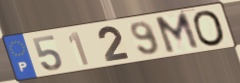1: (67, 30, 91, 66)
2: (97, 25, 132, 64)
5: (31, 33, 64, 72)
9: (129, 20, 162, 57)
M: (153, 11, 202, 56)
O: (191, 9, 229, 48)
